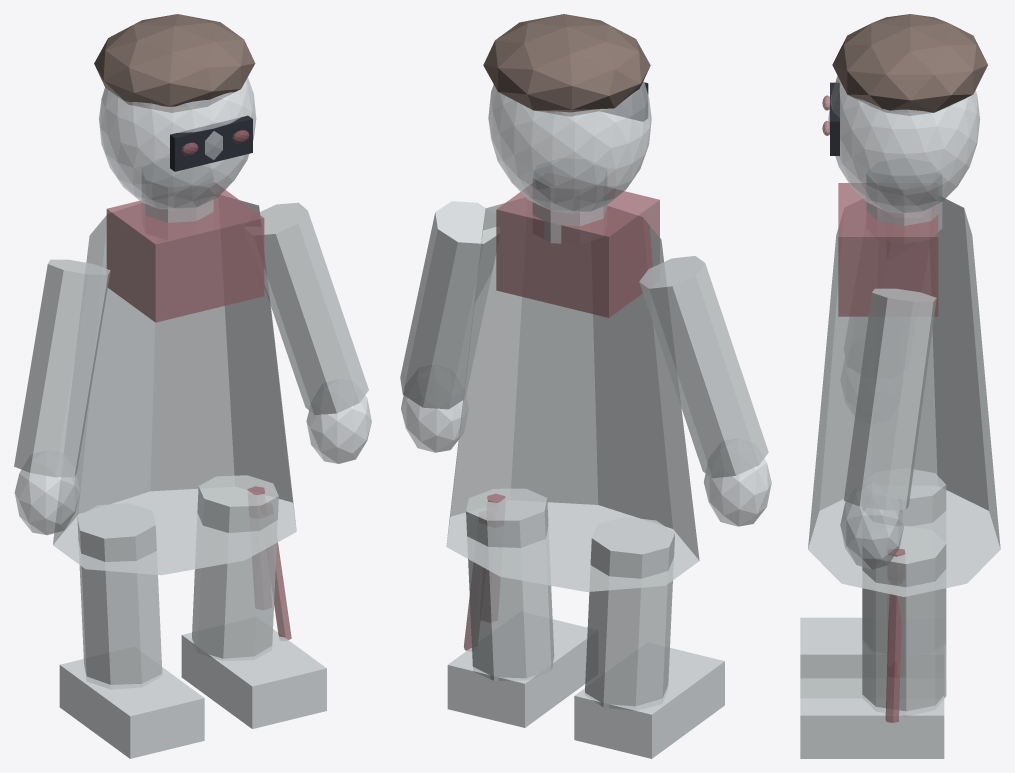
The model's file is ghost_maria.glb.
The picture shows the model from 3 angles, left to right: view 1: azimuth 30°, elevation 25°; view 2: azimuth 150°, elevation 25°; view 3: azimuth 270°, elevation 25°; orthographic projection. The views are drawn at different scales.
Visible parts, largest first — view 1: ghost_garment, chest_detail, right_upper_arm, left_upper_arm, left_leg, head, right_leg, hair, left_shoe, right_shoe, neck, left_hand (+3 smaller); view 2: ghost_garment, chest_detail, left_upper_arm, head, left_leg, right_upper_arm, hair, right_leg, left_shoe, right_shoe, neck, left_hand (+2 smaller); view 3: ghost_garment, right_upper_arm, right_leg, head, hair, chest_detail, right_shoe, neck, left_shoe, right_hand, left_leg, hem_wisp (+1 smaller).
Boxes of the visible parts, bbox=[...] form: ghost_garment: bbox=[53, 195, 296, 575]; chest_detail: bbox=[106, 183, 264, 322]; right_upper_arm: bbox=[245, 202, 368, 415]; left_upper_arm: bbox=[14, 259, 110, 477]; left_leg: bbox=[77, 503, 162, 684]; head: bbox=[99, 77, 256, 210]; right_leg: bbox=[192, 475, 278, 658]; hair: bbox=[94, 14, 255, 112]; left_shoe: bbox=[59, 659, 204, 758]; right_shoe: bbox=[181, 629, 326, 728]; neck: bbox=[141, 158, 213, 239]; left_hand: bbox=[14, 469, 79, 535]; ghost_garment: bbox=[446, 198, 699, 591]; chest_detail: bbox=[496, 184, 659, 317]; left_upper_arm: bbox=[639, 256, 768, 478]; head: bbox=[488, 80, 651, 213]; left_leg: bbox=[585, 517, 674, 707]; right_upper_arm: bbox=[400, 201, 499, 409]; hair: bbox=[483, 14, 650, 116]; right_leg: bbox=[466, 488, 554, 680]; left_shoe: bbox=[574, 648, 724, 758]; right_shoe: bbox=[447, 619, 587, 727]; neck: bbox=[532, 158, 607, 243]; left_hand: bbox=[703, 458, 771, 526]; ghost_garment: bbox=[808, 197, 1000, 596]; right_upper_arm: bbox=[844, 288, 936, 510]; right_leg: bbox=[862, 525, 946, 711]; head: bbox=[828, 76, 980, 213]; hair: bbox=[832, 14, 987, 115]; chest_detail: bbox=[838, 183, 938, 316]; right_shoe: bbox=[800, 678, 944, 758]; neck: bbox=[866, 158, 942, 243]; left_shoe: bbox=[800, 617, 862, 678]; right_hand: bbox=[840, 501, 904, 569]; left_leg: bbox=[862, 469, 946, 526]; hem_wisp: bbox=[885, 594, 901, 722].
Size of the model in its own units: 1.03 by 1.88 by 0.5011.
